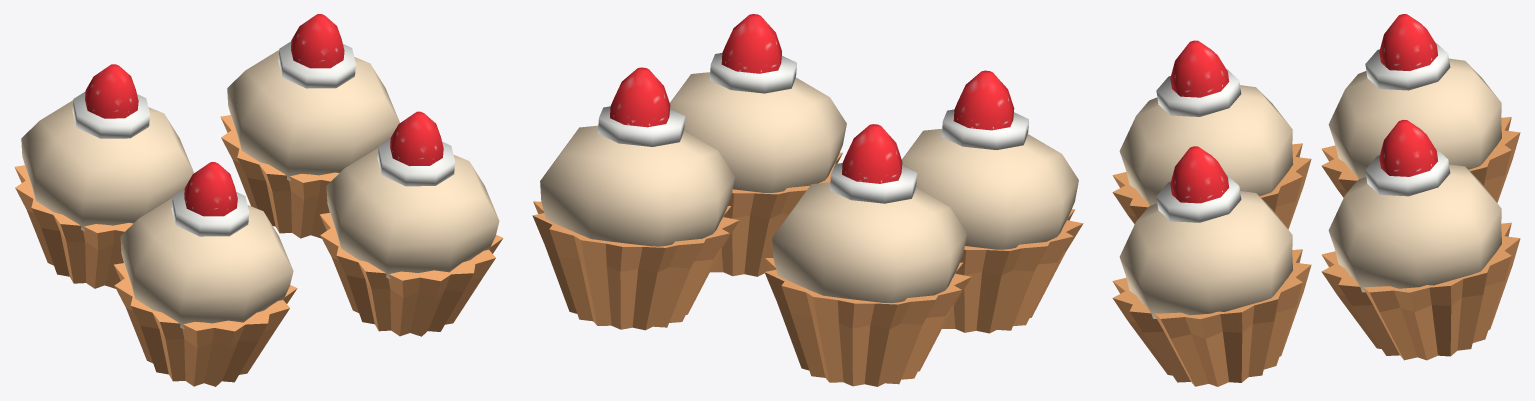
The model's file is Cake2.fbx.
3 views of the same model, side by side, from view 1: azimuth 30°, elevation 25°; view 2: azimuth 150°, elevation 25°; view 3: azimuth 270°, elevation 25° (orthographic). The views are drawn at different scales.
Parts seen in each view (by area): view 1: Cake2; view 2: Cake2; view 3: Cake2.
Part boxes in pixels (x1,y1,x2,y2): Cake2: [14, 14, 503, 386]; Cake2: [532, 14, 1083, 386]; Cake2: [1112, 14, 1520, 386].
Bounding box in the file's own units: 68.34 × 42.38 × 62.97.
